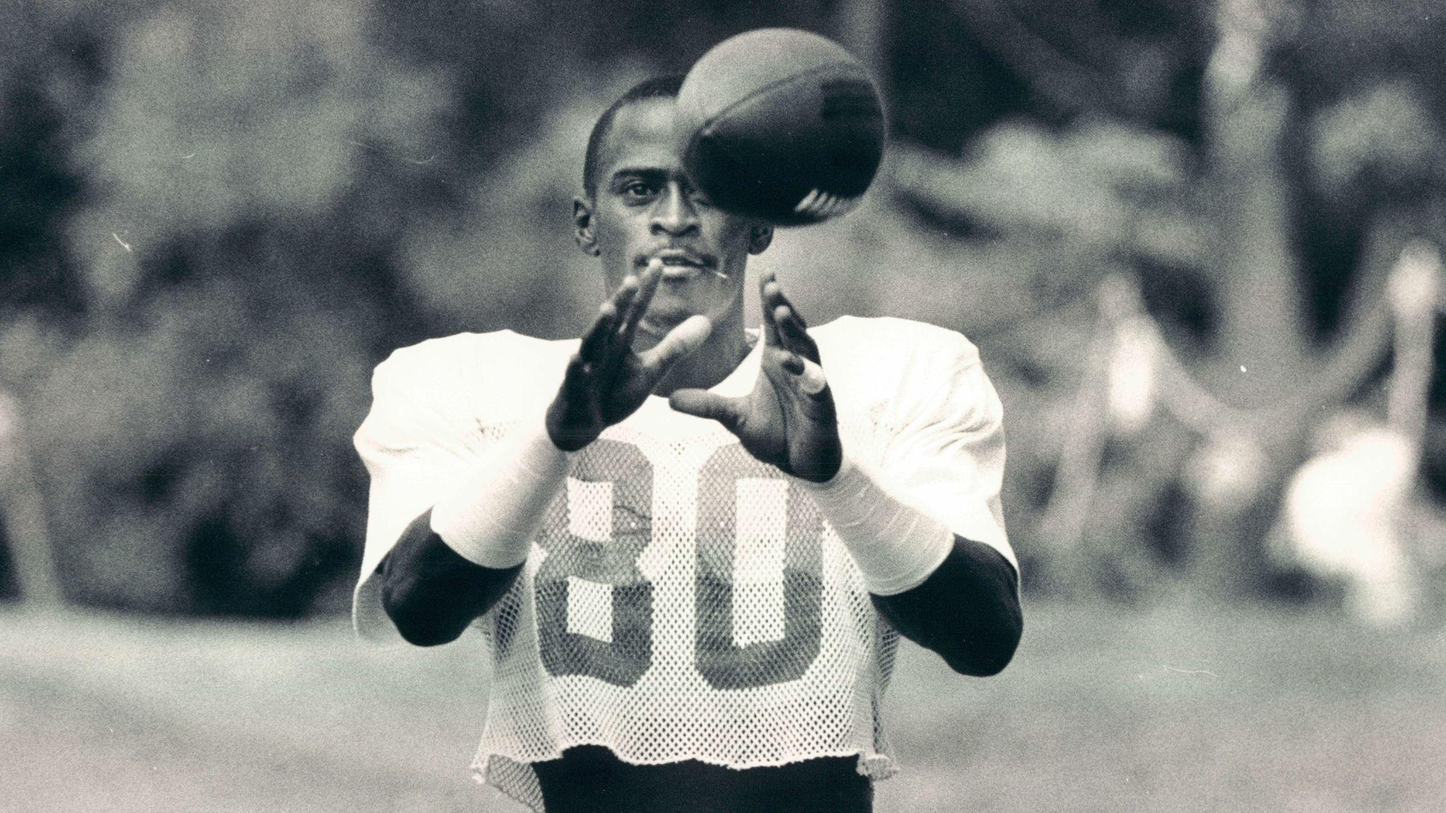americanFootball: (673, 31, 886, 232)
